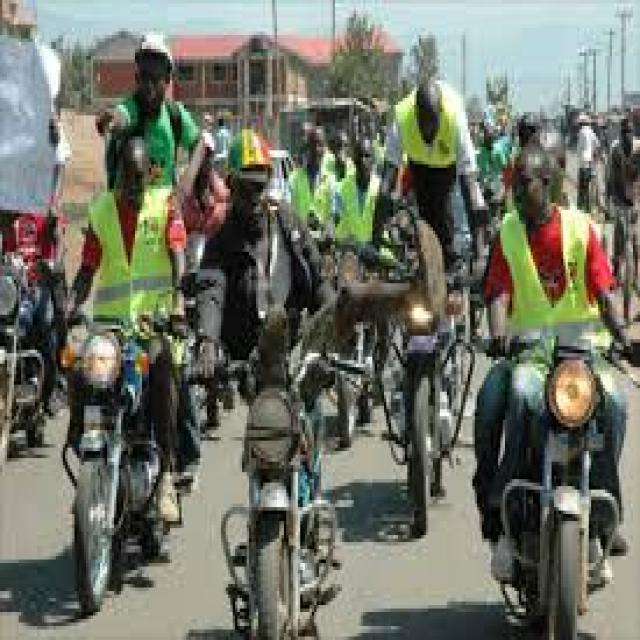bodaboda: (192, 297, 368, 640), (482, 315, 624, 640), (43, 294, 177, 607), (380, 284, 480, 572), (0, 261, 32, 493)
